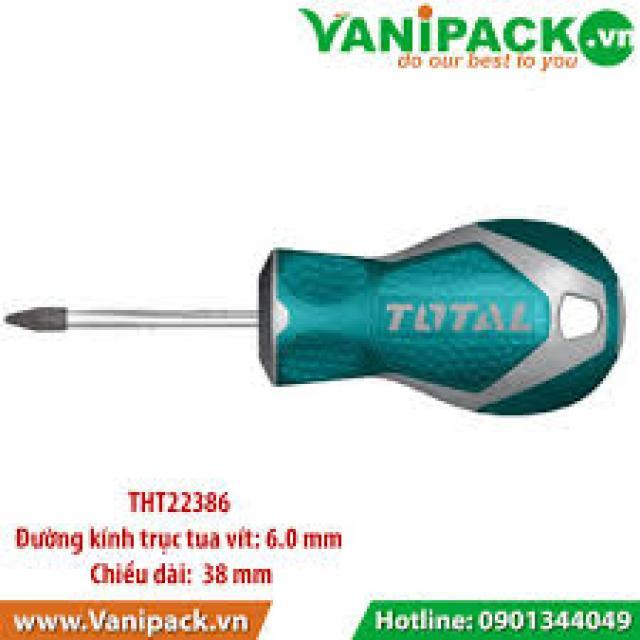screwdriver: (2, 218, 628, 426)
